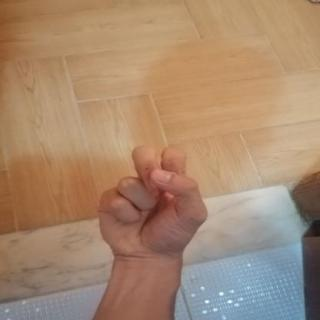QAAF: (83, 136, 228, 270)
